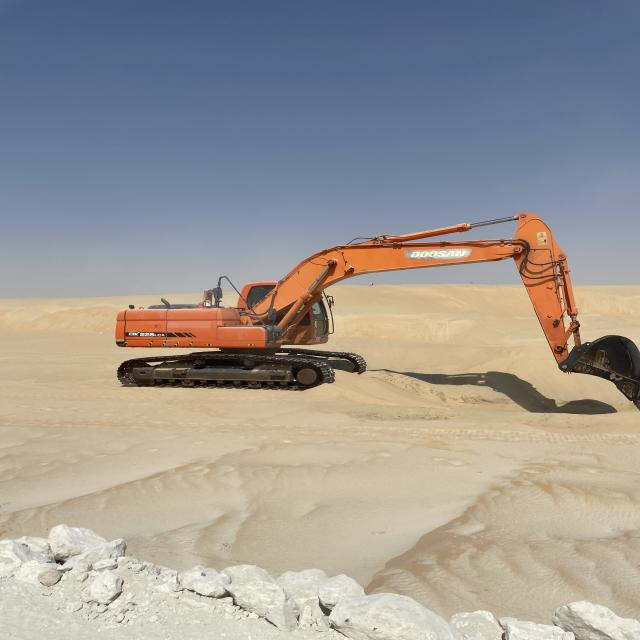excavator: (115, 216, 638, 391)
